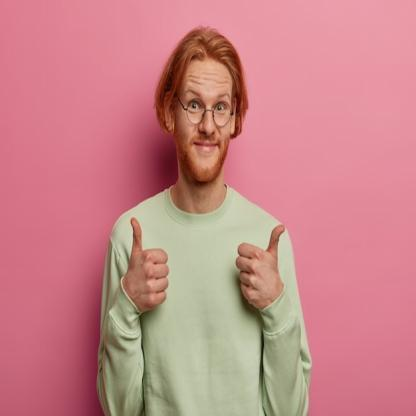thumb_up: (234, 218, 289, 310), (126, 216, 171, 320)
